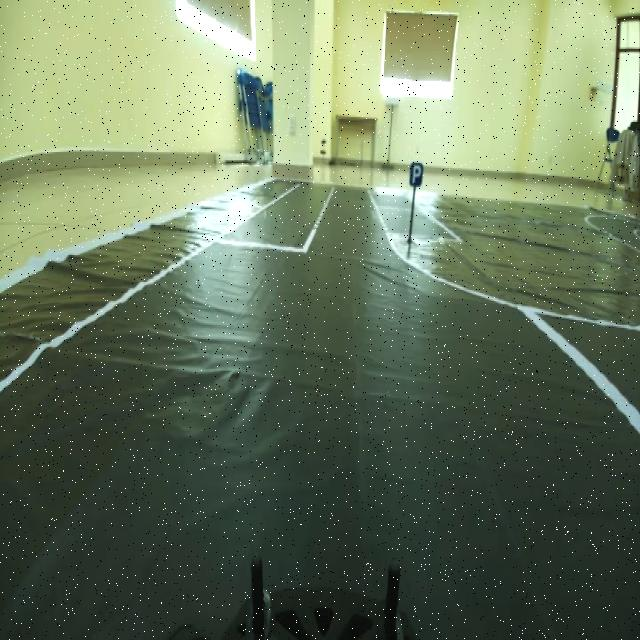parking: (408, 152, 425, 192)
